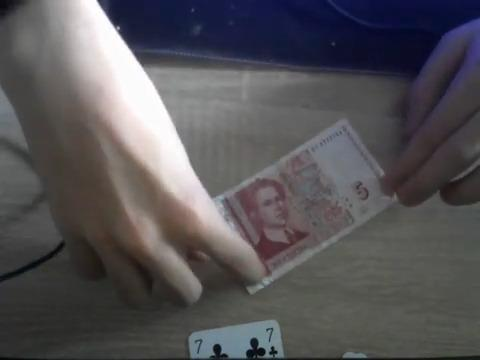5leva: (212, 120, 397, 294)
